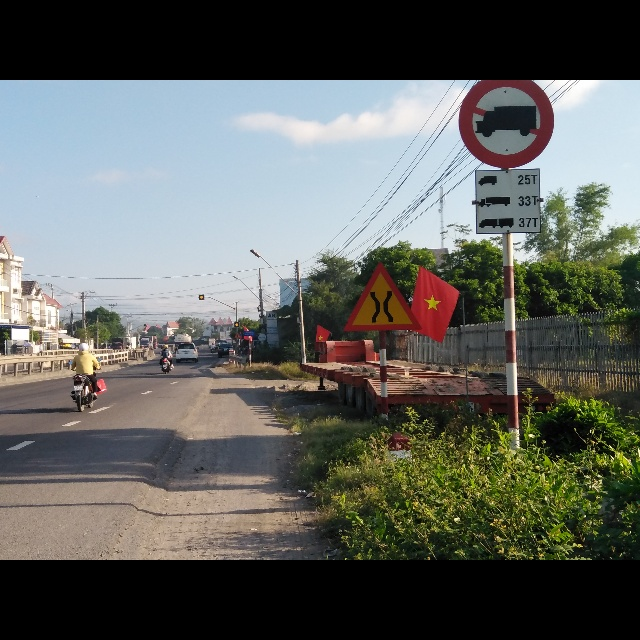Cấm xe tải: (457, 79, 553, 171)
Cầu hẹp: (343, 253, 422, 334)
